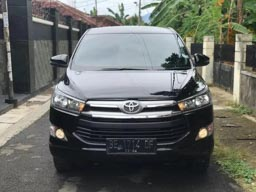plat: (107, 138, 157, 147)
